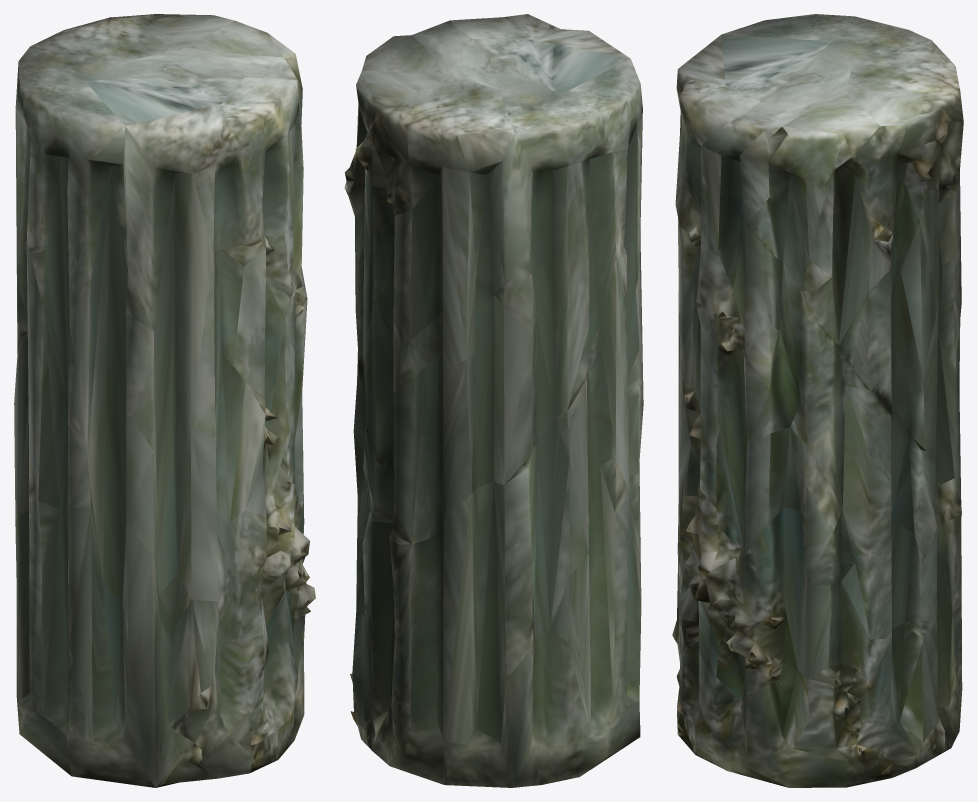
File: pillar_shaft.glb
3 views of the same model, side by side, from view 1: azimuth 30°, elevation 25°; view 2: azimuth 150°, elevation 25°; view 3: azimuth 270°, elevation 25° (orthographic).
Parts seen in each view (by area): view 1: tripo_node_960f94f6-96f3-4837-86c4-864c579a4a5d; view 2: tripo_node_960f94f6-96f3-4837-86c4-864c579a4a5d; view 3: tripo_node_960f94f6-96f3-4837-86c4-864c579a4a5d.
Part boxes in pixels (bbox=[...]): tripo_node_960f94f6-96f3-4837-86c4-864c579a4a5d: bbox=[14, 14, 315, 787]; tripo_node_960f94f6-96f3-4837-86c4-864c579a4a5d: bbox=[344, 14, 643, 787]; tripo_node_960f94f6-96f3-4837-86c4-864c579a4a5d: bbox=[672, 14, 963, 787].
Bounding box in the file's own units: 0.3965 × 0.9756 × 0.3932.
1 material, 1 textured.
